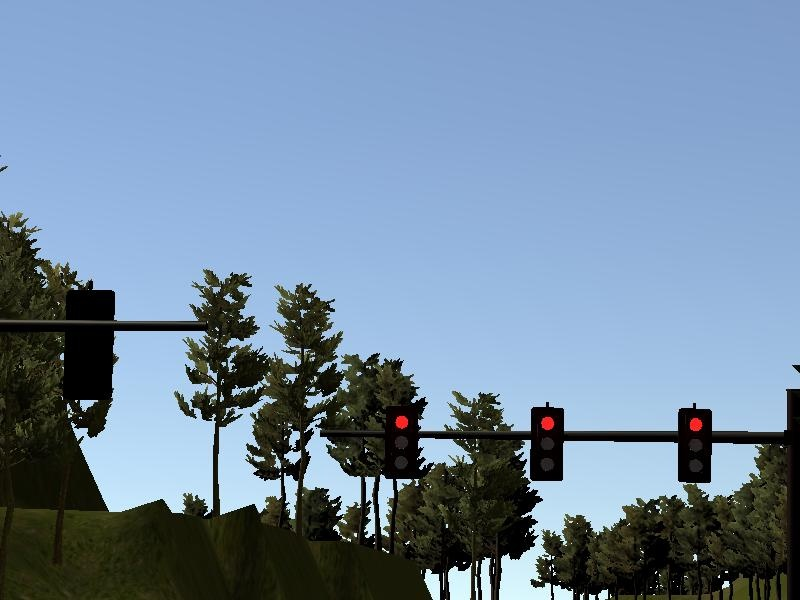red: (377, 404, 422, 482), (527, 401, 569, 481), (674, 403, 714, 484)
